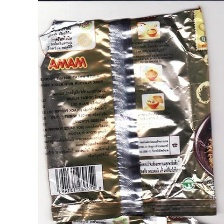snack: (33, 0, 224, 224)
